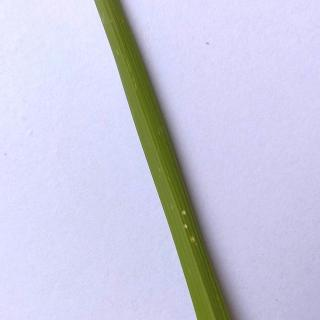Blast: (170, 202, 208, 249)
